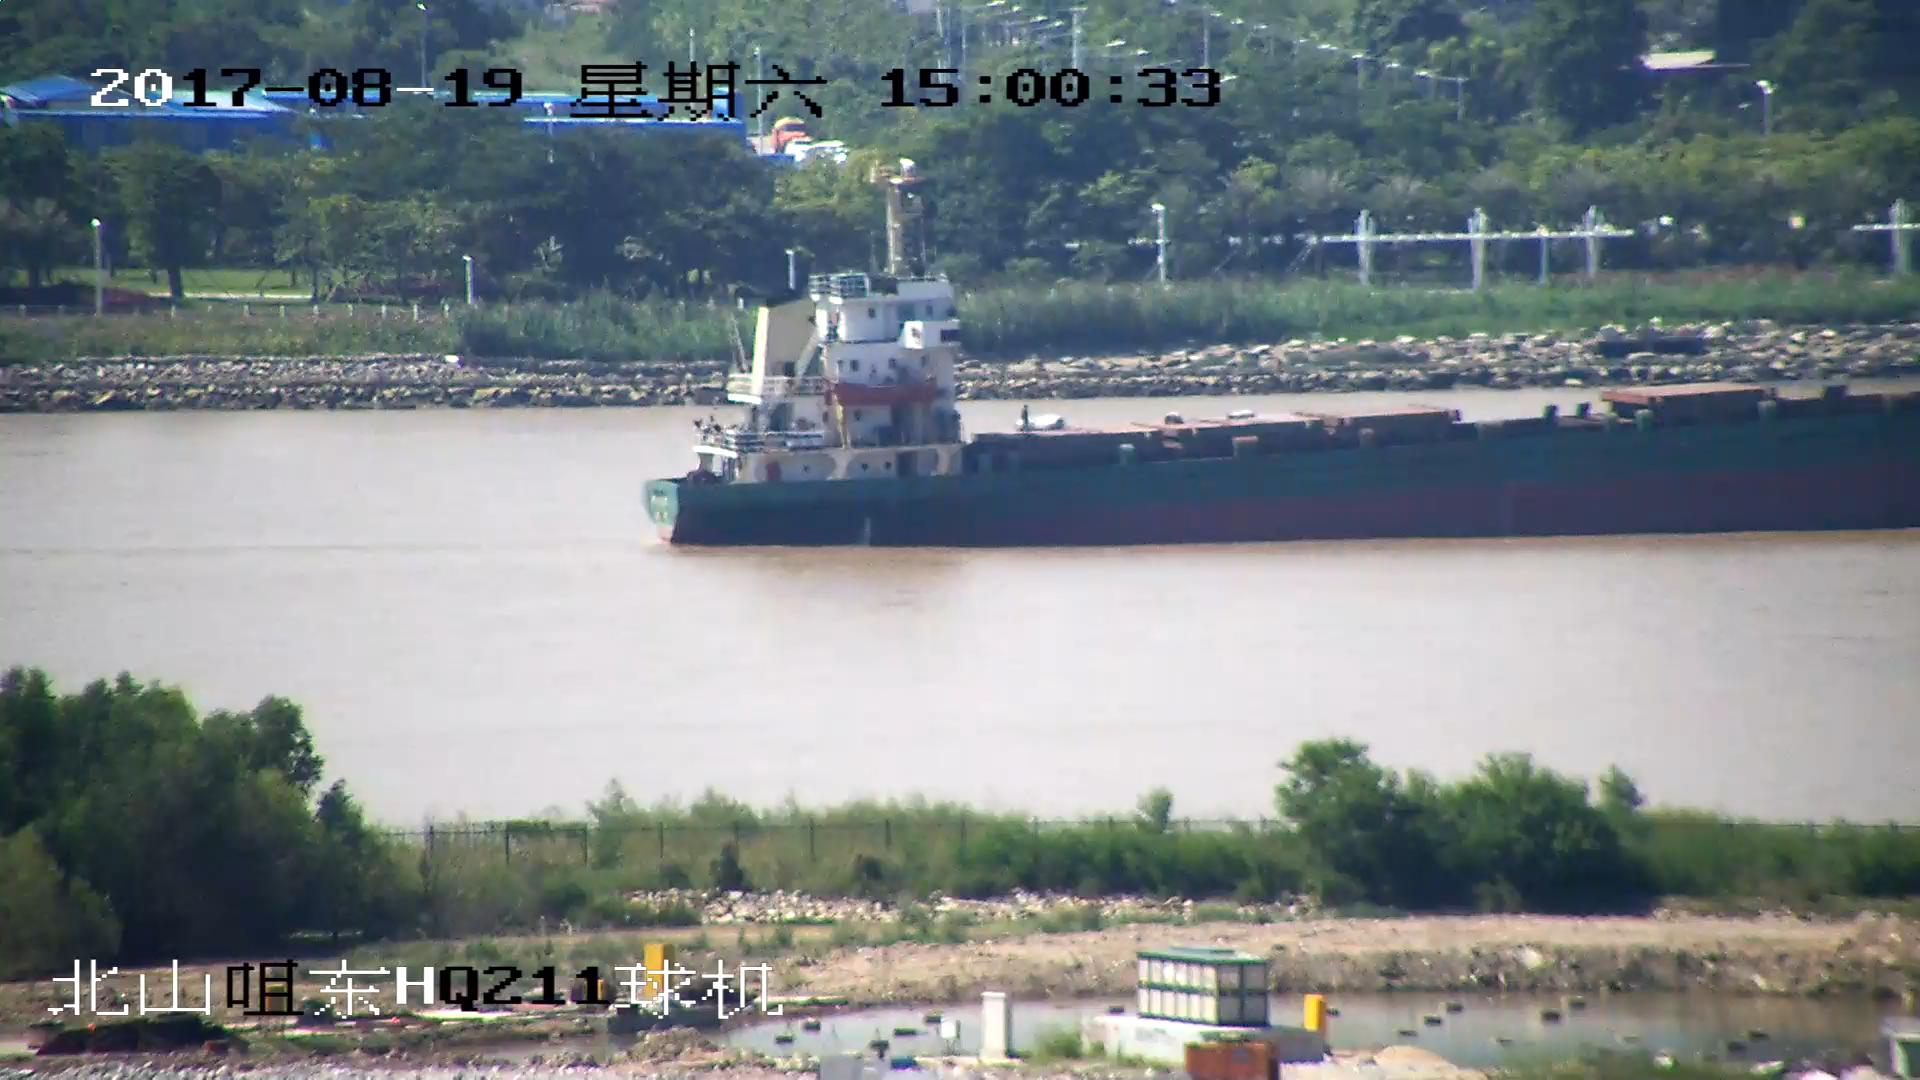general cargo ship: (638, 202, 1920, 546)
